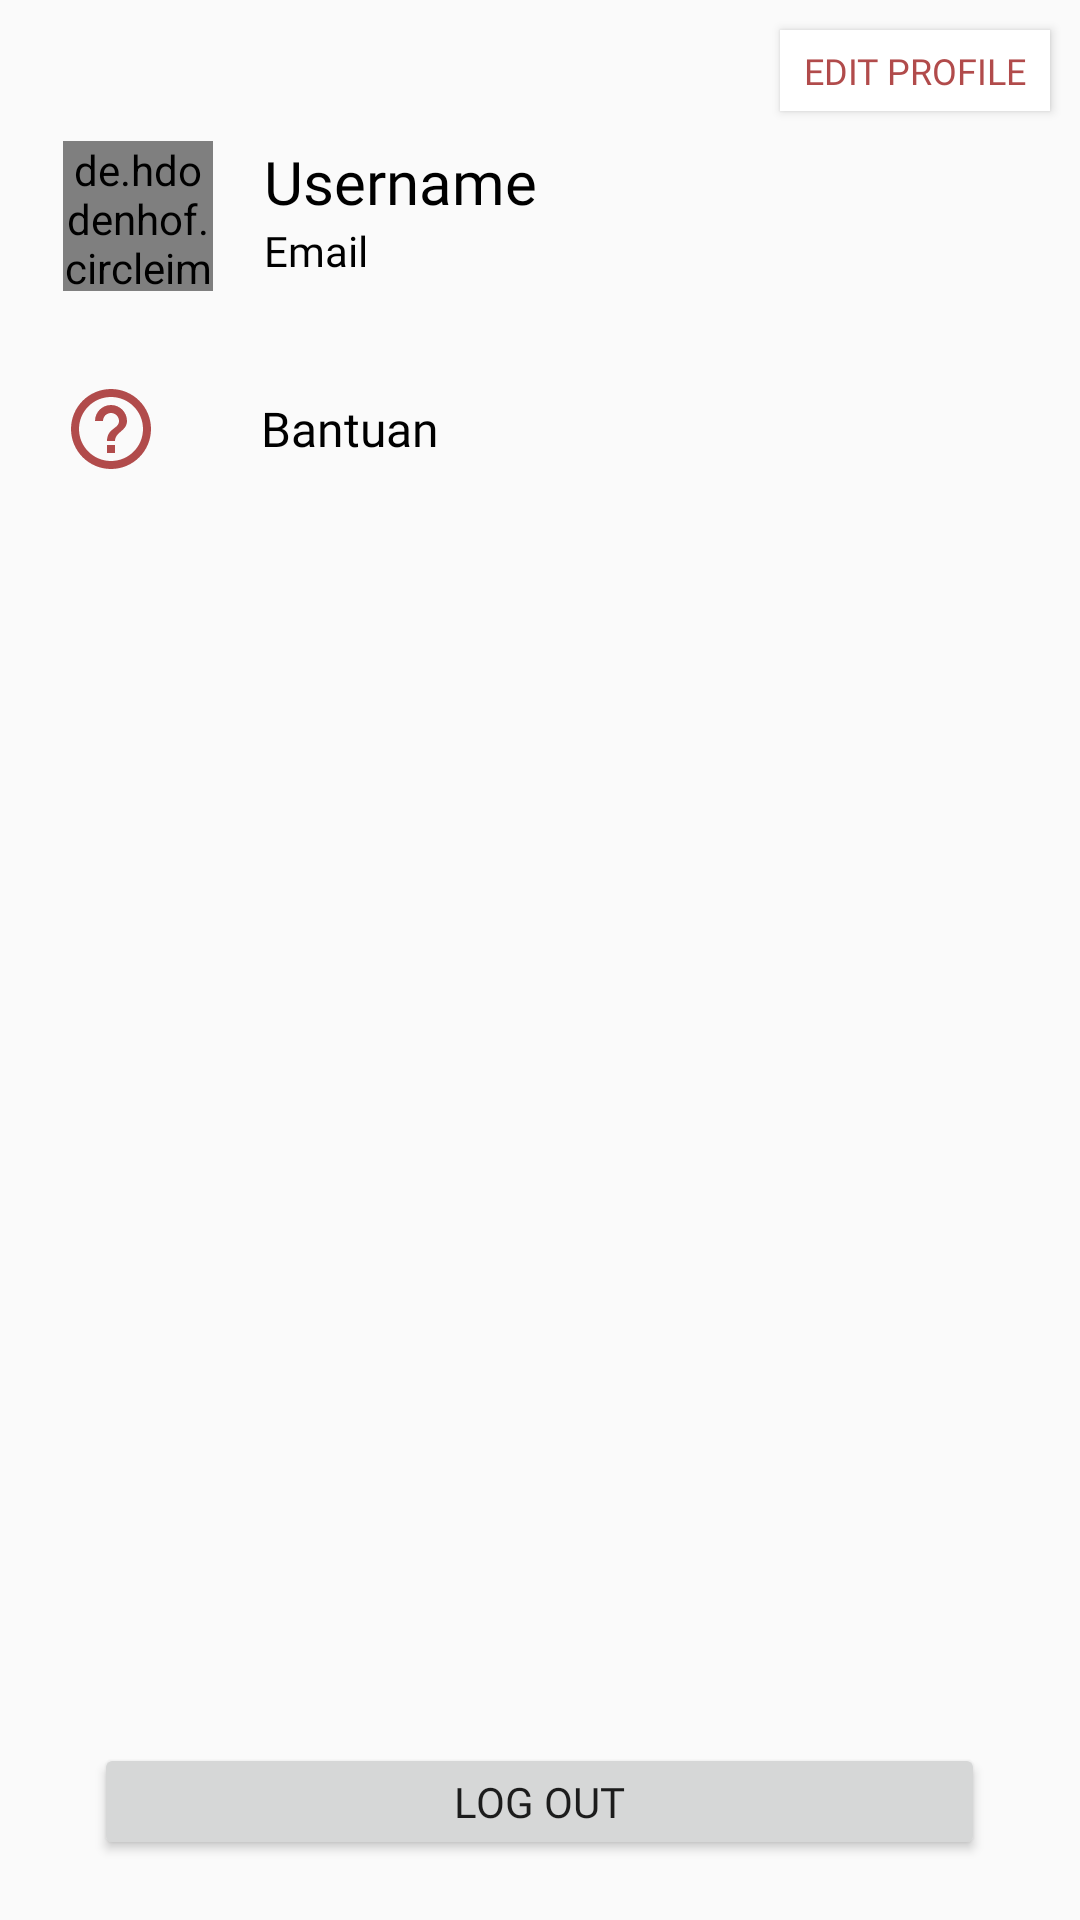

Named icons in this screenshot (1080×1920) and their bounding boxes, {"x1": x1, "y1": y1, "x2": x2, "y2": y2}:
help: {"x1": 71, "y1": 389, "x2": 151, "y2": 469}
